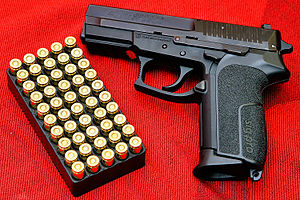gun: (79, 3, 295, 187)
